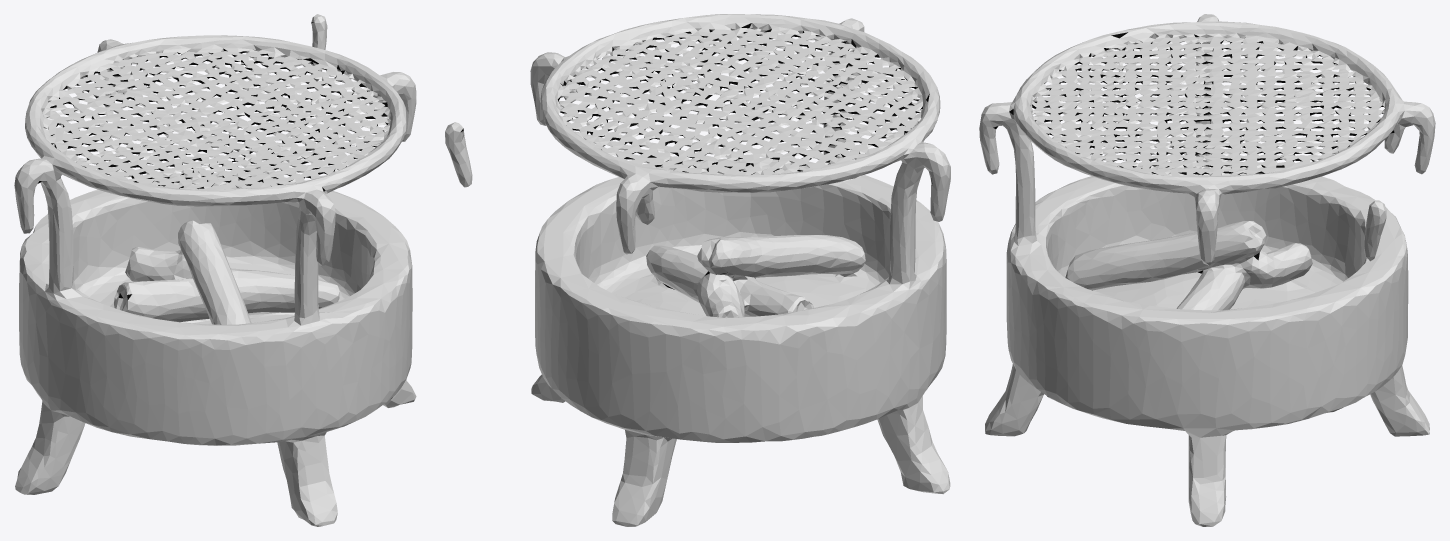
Rendered from rit_braz_small01.glb.
3 views of the same model, side by side, from view 1: azimuth 30°, elevation 25°; view 2: azimuth 150°, elevation 25°; view 3: azimuth 270°, elevation 25° (orthographic). The views are drawn at different scales.
Visible parts, largest first — view 1: Low; view 2: Low; view 3: Low.
Boxes of the visible parts, left/top/right/bottom form: Low: left=14, top=14, right=416, bottom=526; Low: left=445, top=14, right=950, bottom=526; Low: left=979, top=14, right=1435, bottom=526.
Size of the model in its own units: 1.99 by 1.59 by 1.98.
1 material, 1 textured.
